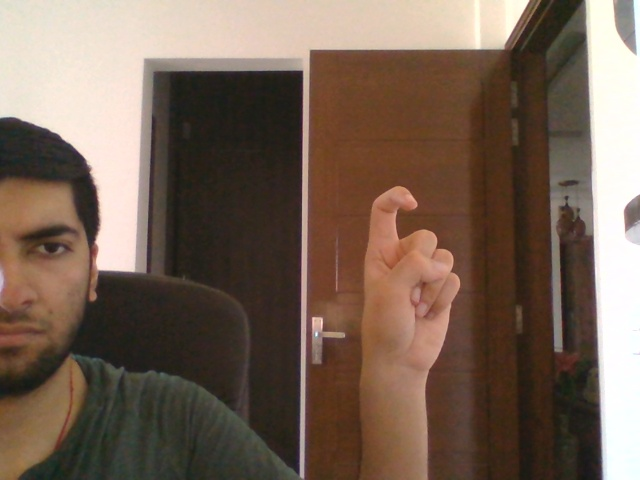LetterX: (357, 183, 463, 377)
